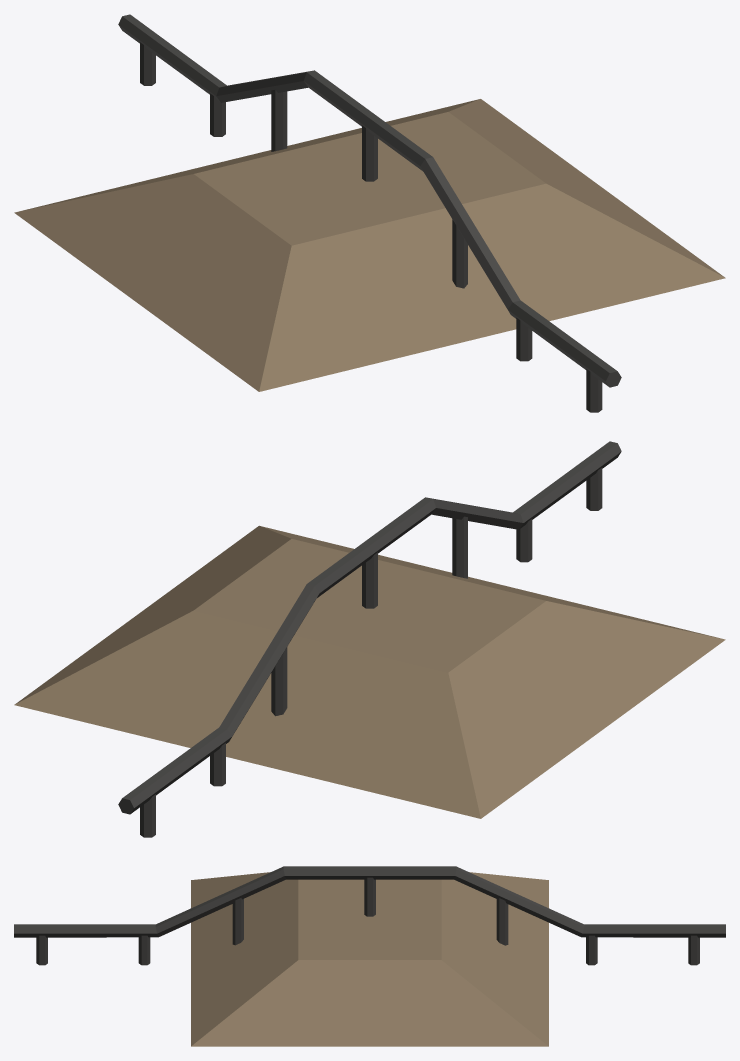
The model's file is SM_Props_City_PlayGround_Skatepark_KinkedRail_02.fbx.
3 views of the same model, one above another, from view 1: azimuth 30°, elevation 25°; view 2: azimuth 150°, elevation 25°; view 3: azimuth 270°, elevation 25° (orthographic). The views are drawn at different scales.
Parts seen in each view (by area): view 1: SM_Props_City_PlayGround_Skatepark_KinkedRail_02; view 2: SM_Props_City_PlayGround_Skatepark_KinkedRail_02; view 3: SM_Props_City_PlayGround_Skatepark_KinkedRail_02.
Part boxes in pixels (x1,y1,x2,y2): SM_Props_City_PlayGround_Skatepark_KinkedRail_02: [14, 14, 725, 412]; SM_Props_City_PlayGround_Skatepark_KinkedRail_02: [14, 441, 725, 837]; SM_Props_City_PlayGround_Skatepark_KinkedRail_02: [14, 866, 725, 1046].
Bounding box in the file's own units: 308 × 82.39 × 557.
